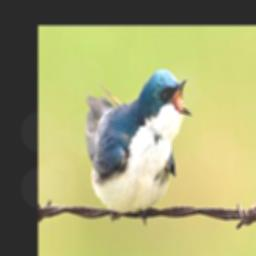Swallow: (85, 64, 195, 224)
